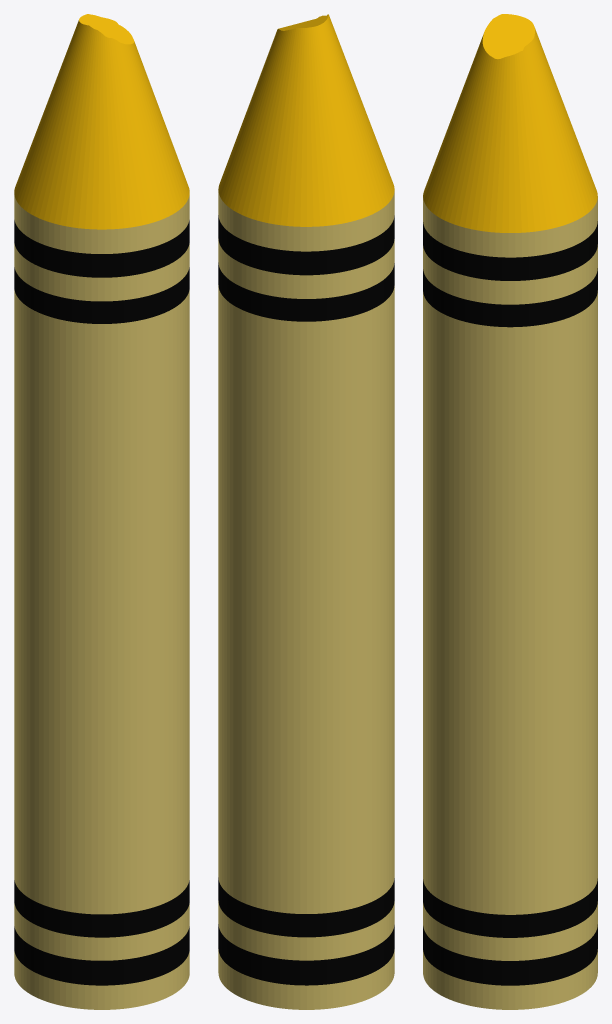
The model's file is sarımumboya.fbx.
3 renders of one model, left to right at view 1: azimuth 30°, elevation 25°; view 2: azimuth 150°, elevation 25°; view 3: azimuth 270°, elevation 25°, orthographic.
Parts seen in each view (by area): view 1: Cylinder; view 2: Cylinder; view 3: Cylinder.
Part boxes in pixels (<box>): Cylinder: <box>14,14,189,1009</box>; Cylinder: <box>218,14,394,1009</box>; Cylinder: <box>423,14,597,1009</box>.
Bounding box in the file's own units: 200 × 1200 × 200.
